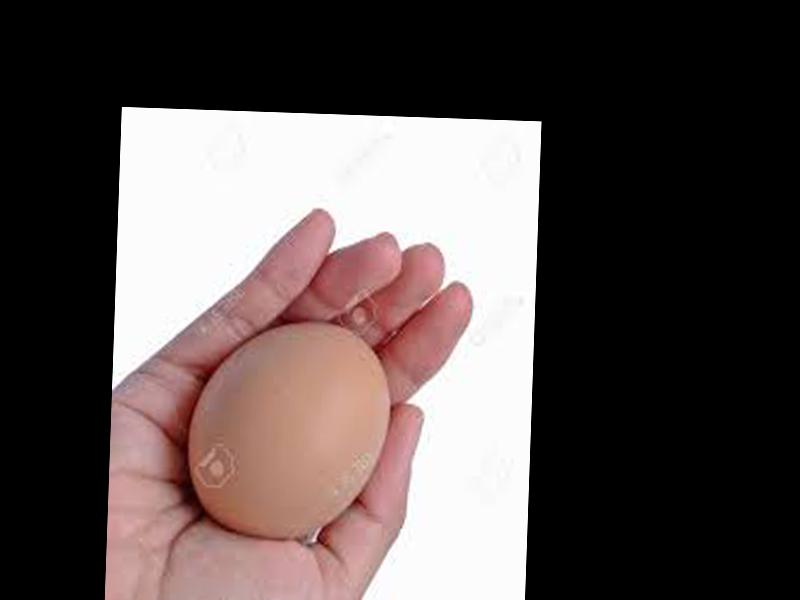Eggs: (187, 317, 392, 544)
